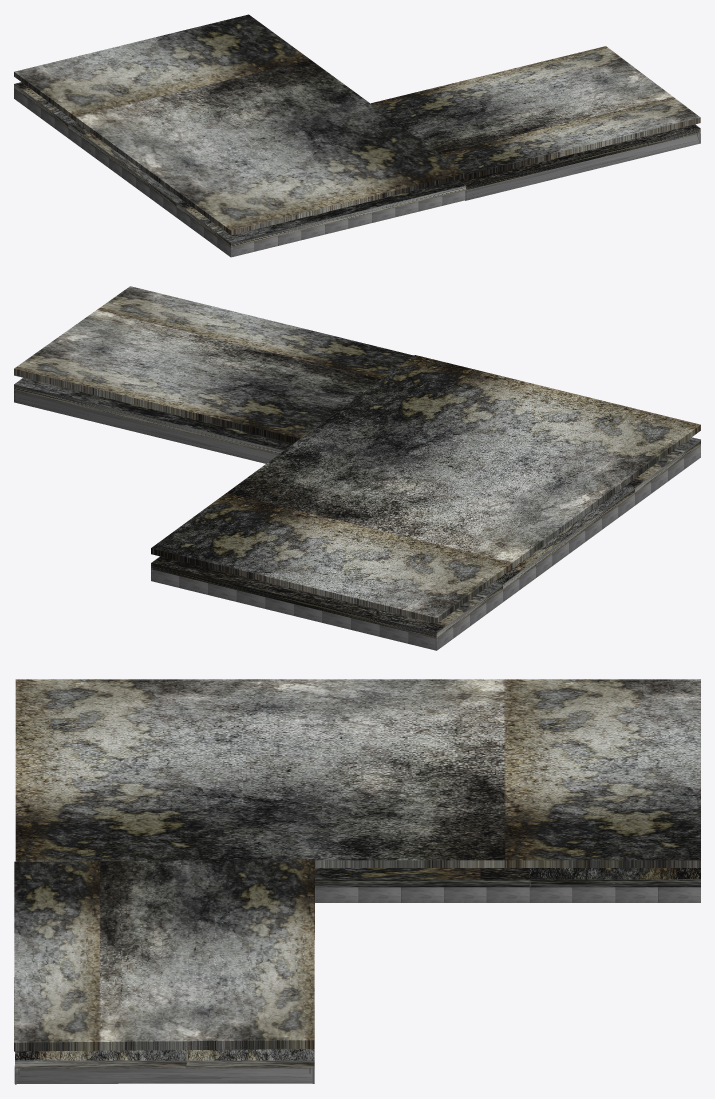
Rendered from Techo.fbx.
The picture shows the model from 3 angles, top to bottom: view 1: azimuth 30°, elevation 25°; view 2: azimuth 150°, elevation 25°; view 3: azimuth 270°, elevation 25°; orthographic projection. The views are drawn at different scales.
Visible parts, largest first — view 1: Techo, BordeTecho; view 2: Techo, BordeTecho; view 3: Techo, BordeTecho.
Boxes of the visible parts, box(x1,y1,x2,y2) form: Techo: box(14, 14, 700, 247); BordeTecho: box(14, 89, 700, 257); Techo: box(14, 286, 700, 638); BordeTecho: box(14, 390, 700, 650); Techo: box(14, 679, 700, 1068); BordeTecho: box(14, 887, 700, 1084).
Size of the model in its own units: 1000 by 57.95 by 802.
Materials: 2 (2 with a texture image).
